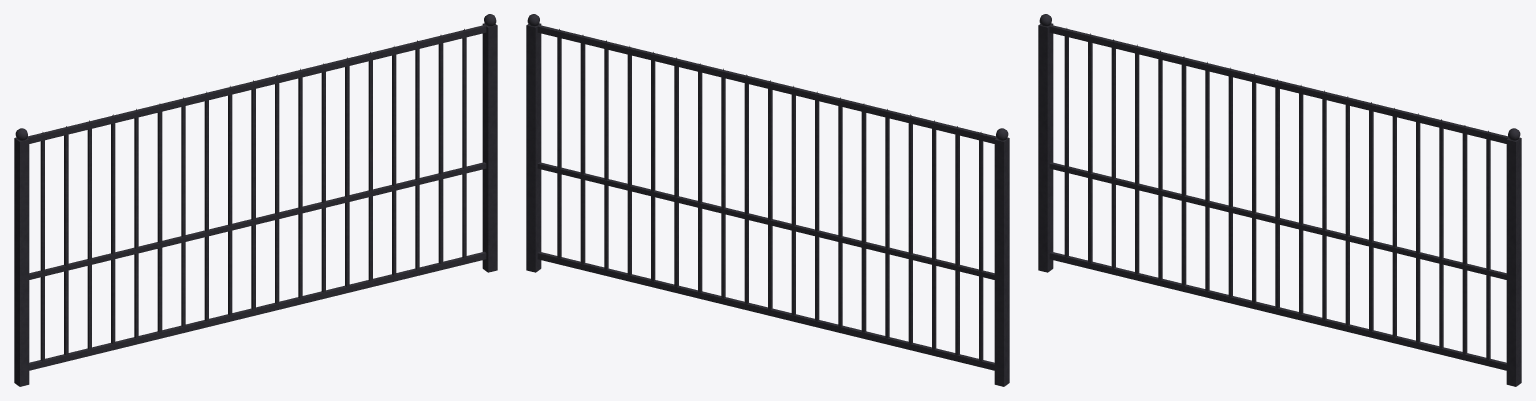
File: fence_panel.glb
3 views of the same model, side by side, from view 1: azimuth 30°, elevation 25°; view 2: azimuth 150°, elevation 25°; view 3: azimuth 330°, elevation 25° (orthographic).
Parts seen in each view (by area): view 1: FencePanel; view 2: FencePanel; view 3: FencePanel.
Boxes of the visible parts, box(x1,y1,x2,y2) form: FencePanel: box(14, 14, 497, 386); FencePanel: box(526, 14, 1009, 386); FencePanel: box(1038, 14, 1521, 386).
Bounding box in the file's own units: 2.05 × 1.04 × 0.0468.
1 material, 1 textured.
